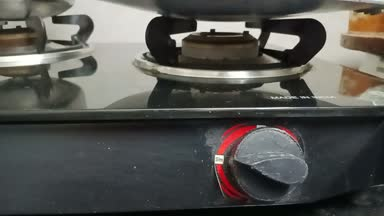noflame_gason: (141, 9, 356, 204)
